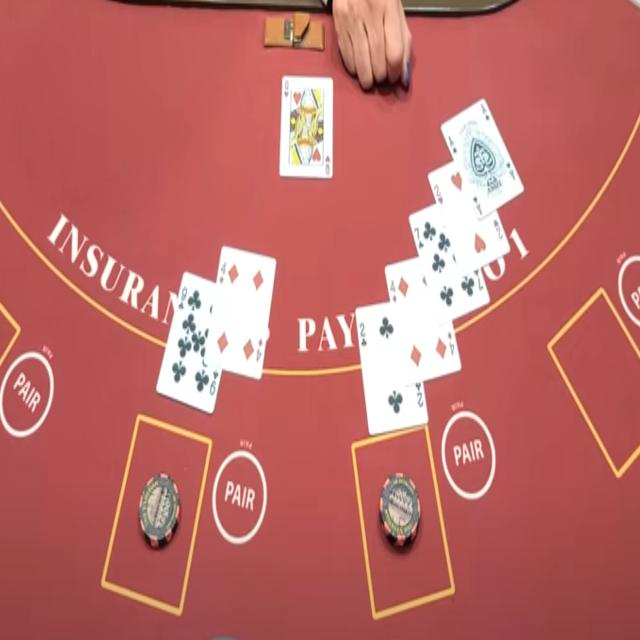2: (358, 320, 368, 338), (433, 181, 442, 197)
4: (389, 278, 397, 295), (220, 259, 227, 276)
7: (413, 225, 421, 241)
9: (180, 284, 188, 302)
A: (446, 132, 456, 148)
Q: (284, 79, 290, 91)
